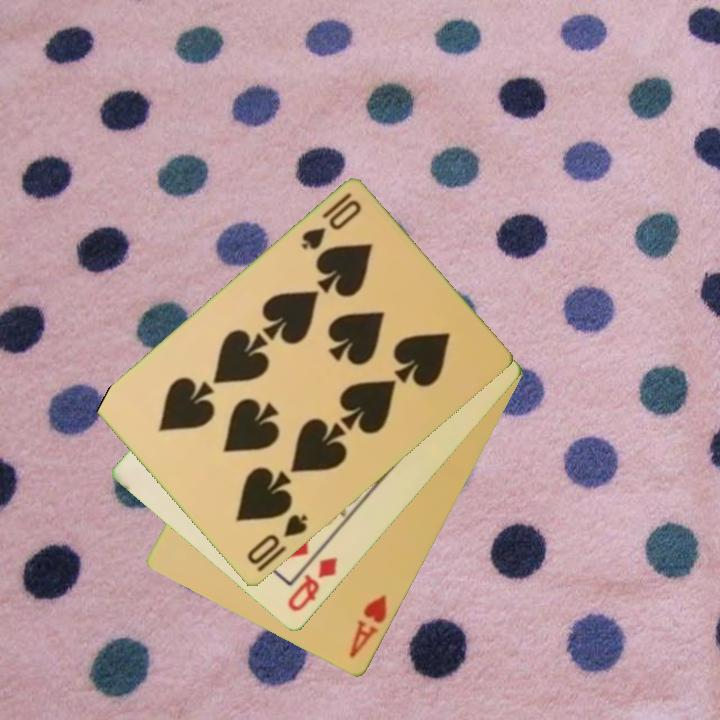10s: (243, 511, 311, 576), (297, 189, 365, 254)
Ah: (345, 592, 391, 661)
Qd: (284, 554, 341, 615)
